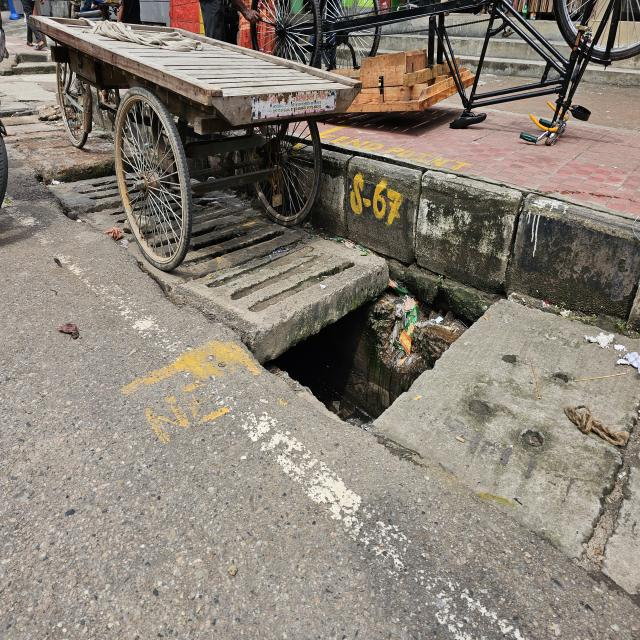drain_inlet: (253, 276, 468, 422)
